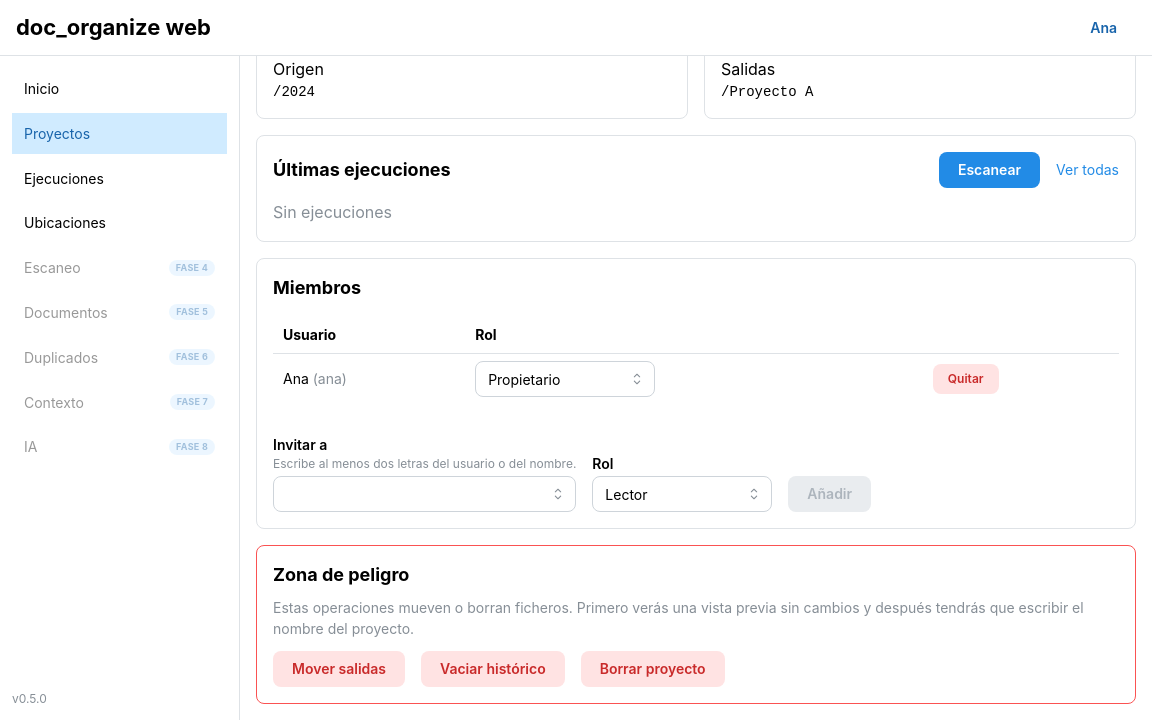
ProjectDetailPage › vaciar el histórico exige vista previa y escribir el nombre
(page scrolled)
Click the button "Vaciar histórico" at x=493, y=669, box [421,651,565,687]
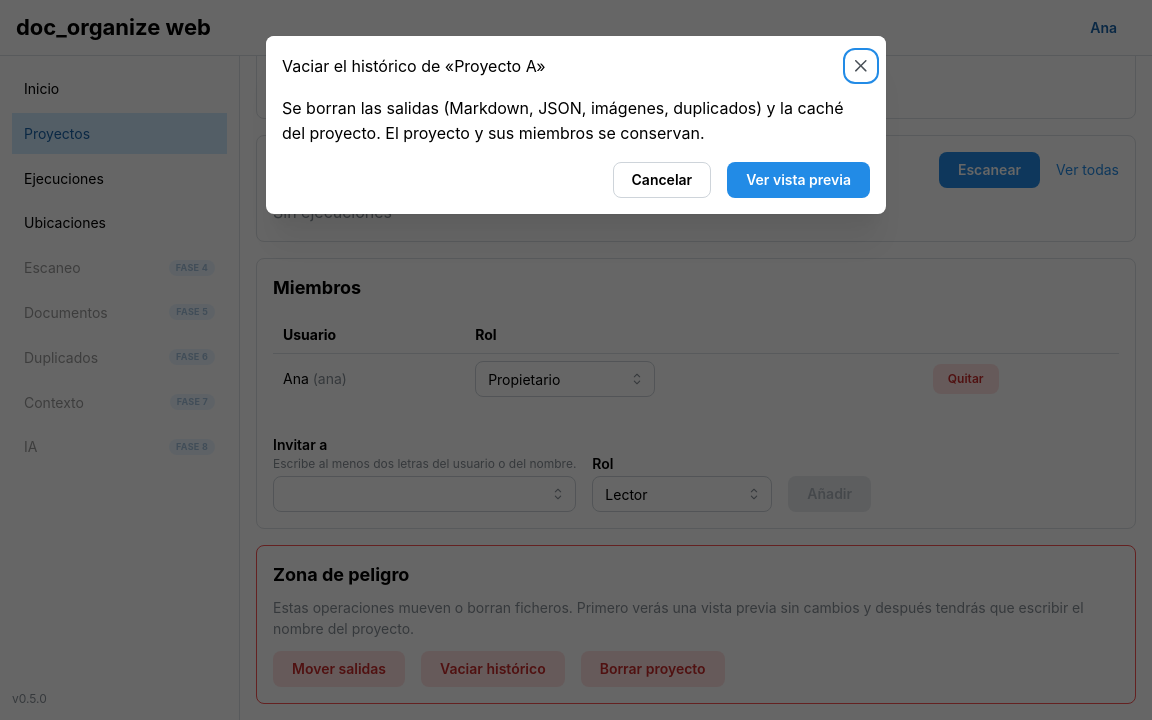
Click the button "Ver vista previa" at x=799, y=180, box [727,162,870,198]
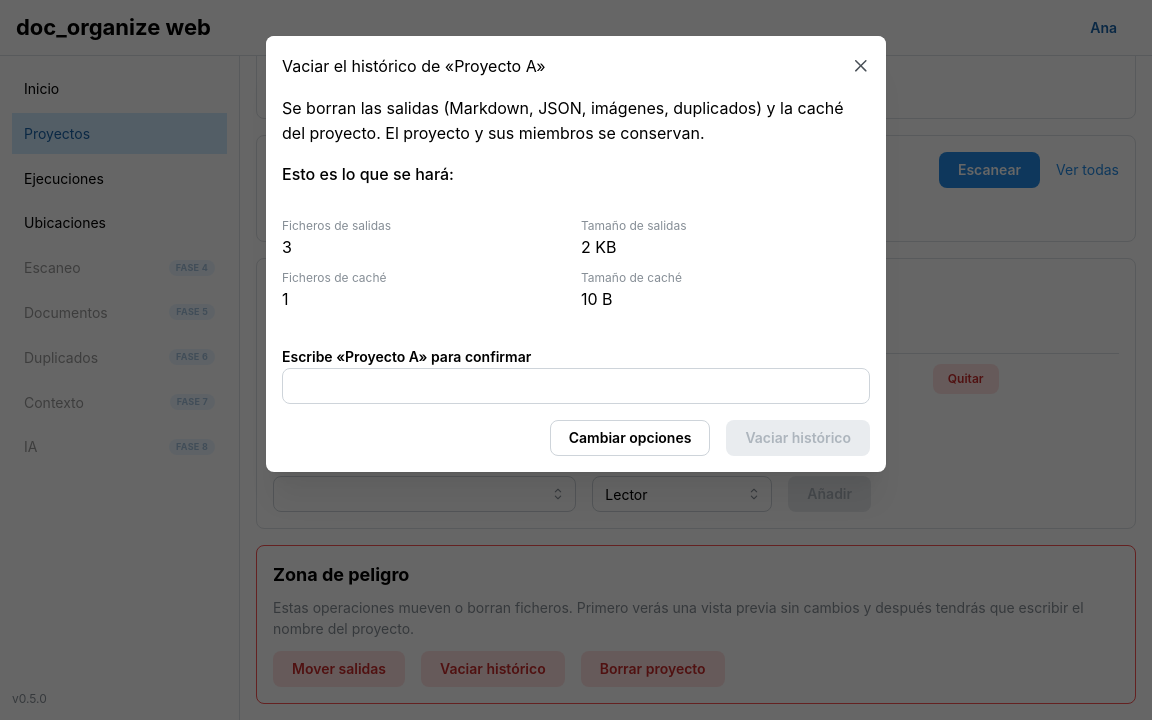
Result: the text "2 KB" is shown at [581,237,616,257]
Result: the button "Vaciar histórico" is disabled at [726,420,870,456]
Type "Proyecto A" into the field labelled "Escribe «Proyecto A» para confirmar" at x=576, y=386, box [282,368,870,404]
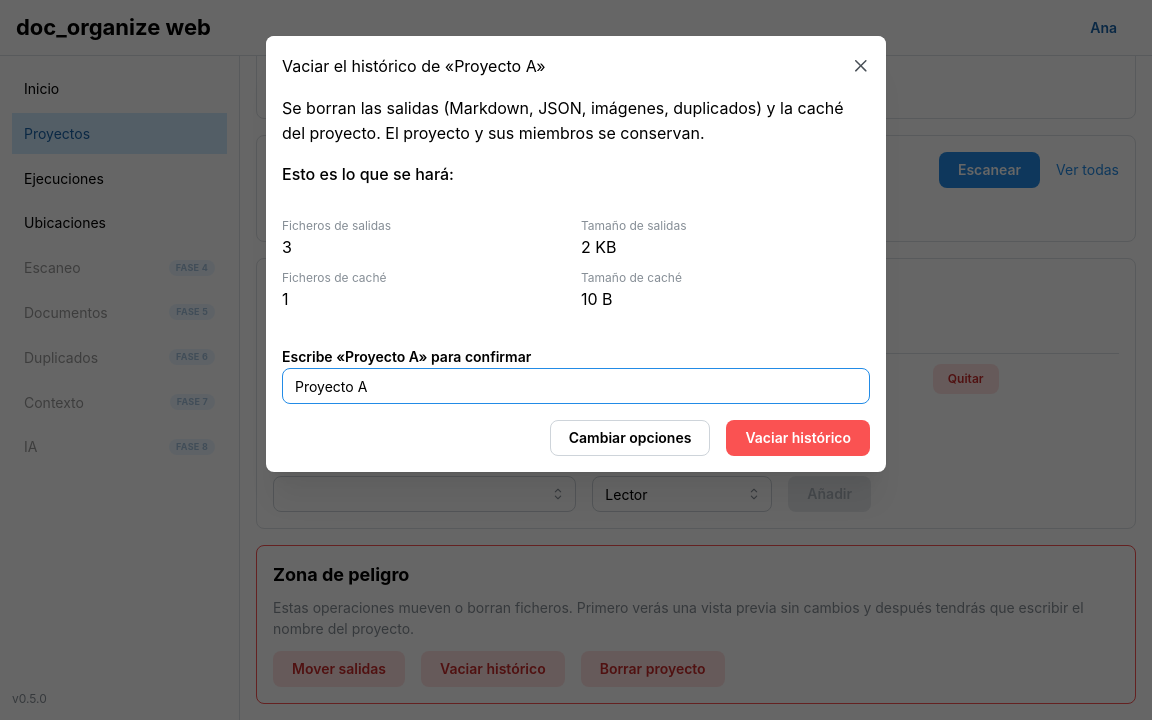
Click the button "Vaciar histórico" at x=798, y=438, box [726,420,870,456]
(page scrolled)
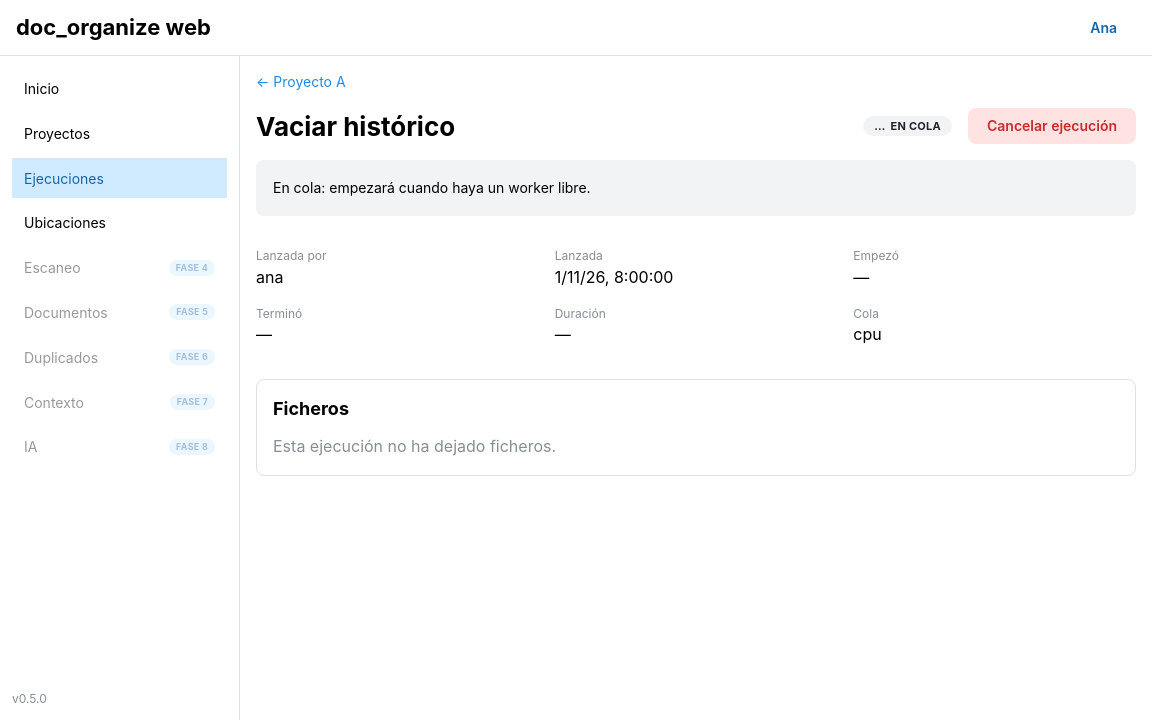
Result: the heading "Vaciar histórico" is shown at [256,109,455,144]
